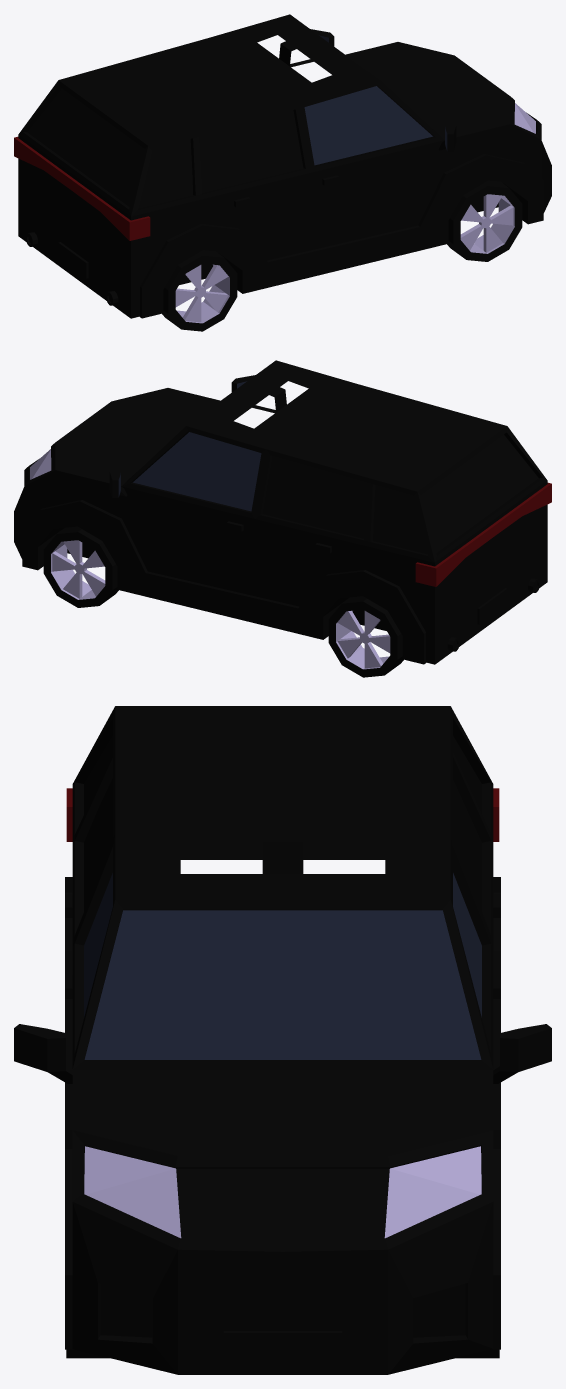
The model's file is suv2.glb.
3 renders of one model, top to bottom at view 1: azimuth 30°, elevation 25°; view 2: azimuth 150°, elevation 25°; view 3: azimuth 270°, elevation 25°, orthographic. The views are drawn at different scales.
Parts seen in each view (by area): view 1: body_paint, body_glass, body_tail, wheel_fr_tire (×2), wheel_rr_rim (×2), wheel_fr_rim, wheel_rr_tire; view 2: body_paint, body_glass, body_tail, wheel_fl_tire (×2), wheel_rl_rim (×2), wheel_fl_rim, wheel_rl_tire; view 3: body_paint, body_glass, body_lamp.
Boxes of the visible parts, x1,y1,x2,y2 form: body_paint: [18, 14, 551, 318]; body_glass: [304, 35, 447, 165]; body_tail: [14, 136, 150, 240]; wheel_fr_tire (×2): [447, 180, 522, 261]; wheel_rr_rim (×2): [175, 264, 229, 323]; wheel_fr_rim: [460, 194, 514, 253]; wheel_rr_tire: [165, 253, 237, 331]; body_paint: [14, 360, 547, 664]; body_glass: [118, 381, 261, 511]; body_tail: [415, 482, 551, 586]; wheel_fl_tire (×2): [43, 526, 118, 607]; wheel_rl_rim (×2): [336, 610, 390, 669]; wheel_fl_rim: [51, 540, 105, 599]; wheel_rl_tire: [328, 599, 400, 677]; body_paint: [14, 706, 551, 1374]; body_glass: [84, 873, 481, 1059]; body_lamp: [84, 1146, 481, 1238].
Size of the model in its own units: 5.04 by 2.26 by 2.81.
